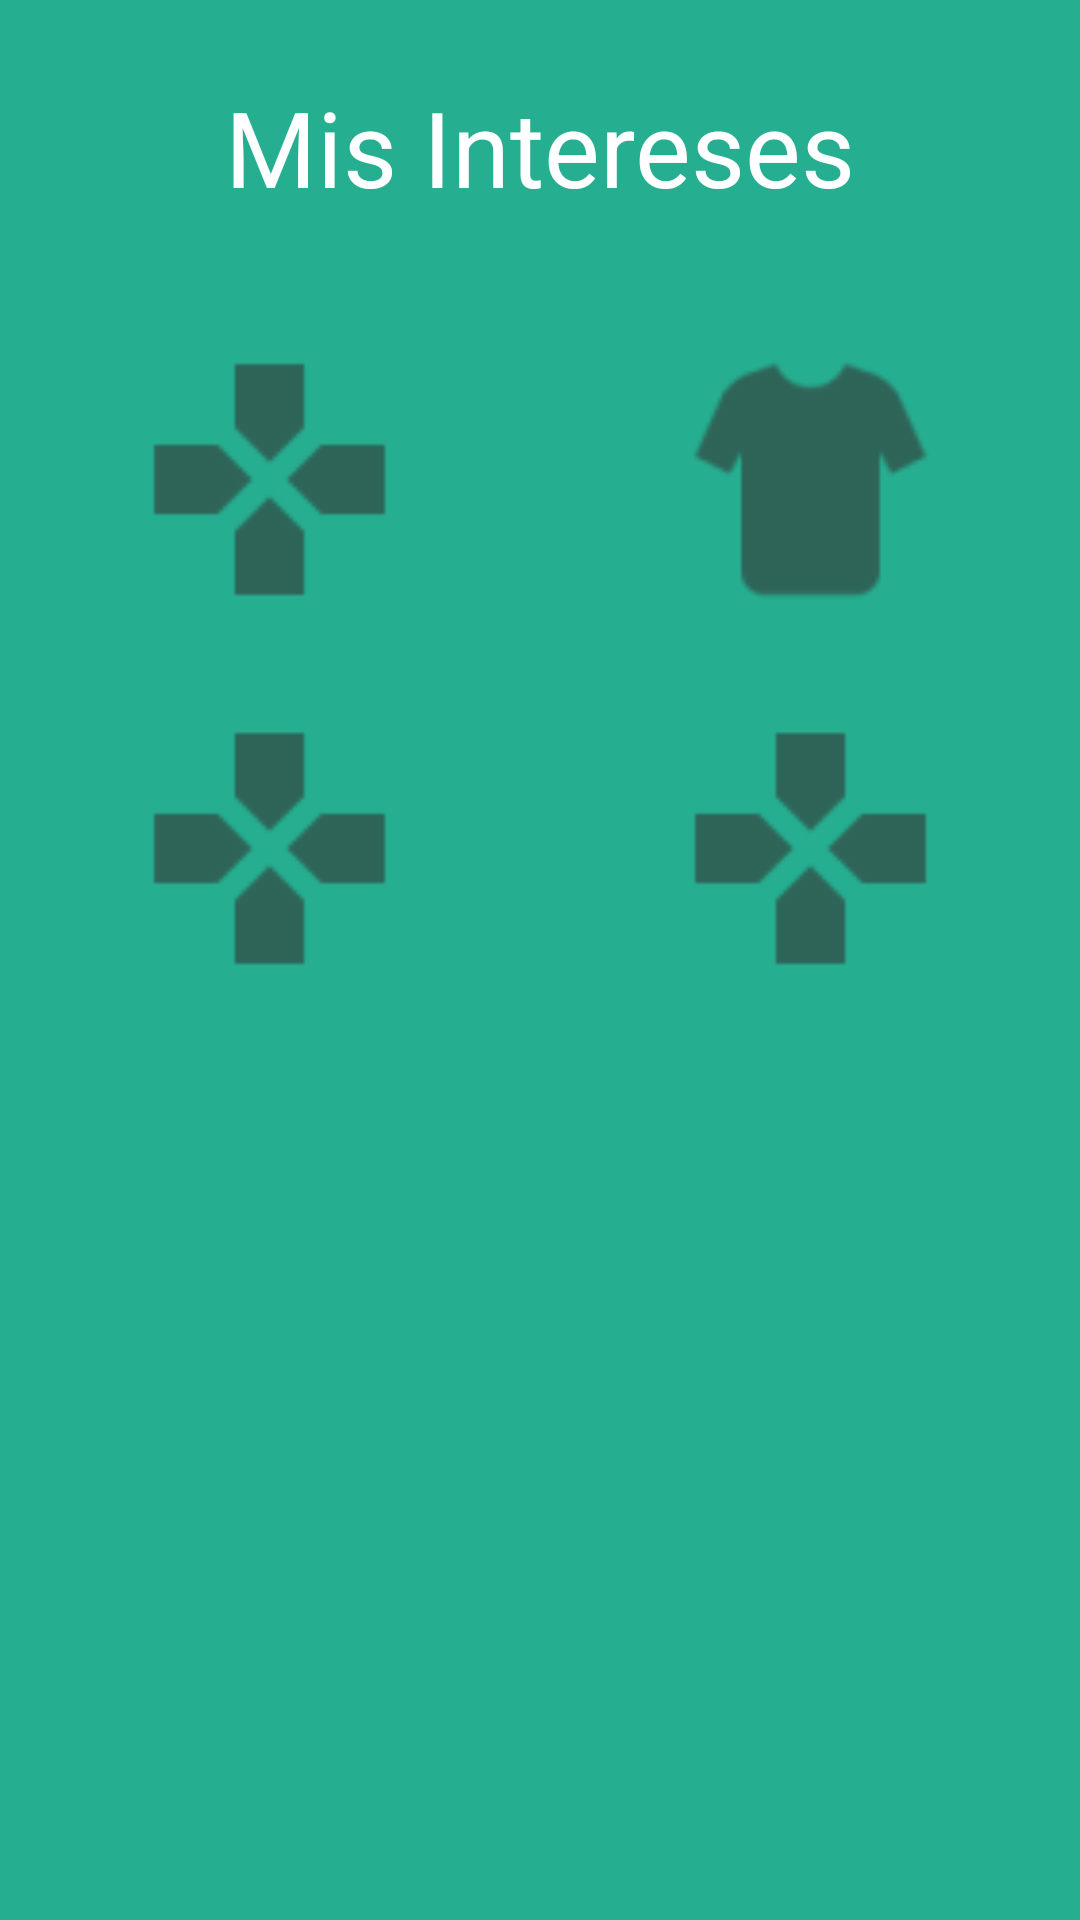

Locate icon controls on the screen. Image size 1080px x 1920px, boxes as (x1, y1, x2, y2).
type clothes: (695, 364, 926, 596)
type video game: (154, 364, 385, 595)
type video games: (154, 733, 385, 964), (695, 733, 926, 964)
